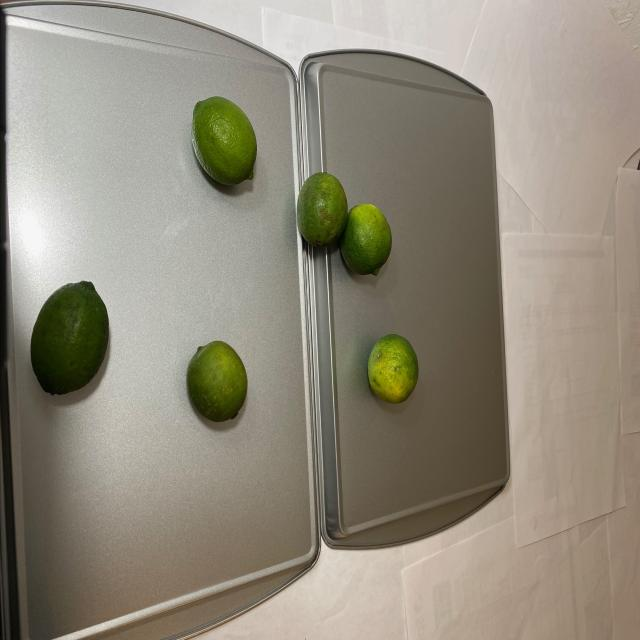lemon: (292, 169, 418, 409), (27, 263, 109, 398), (182, 95, 265, 189), (186, 340, 247, 424)
